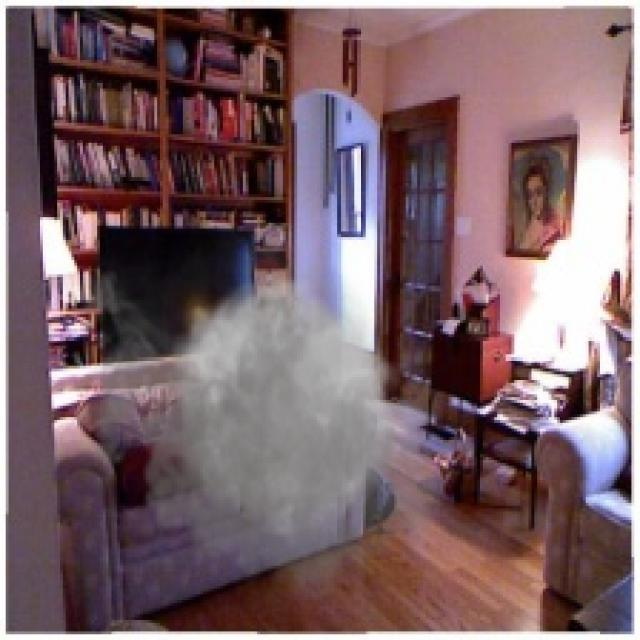smoke: (69, 203, 454, 614)
